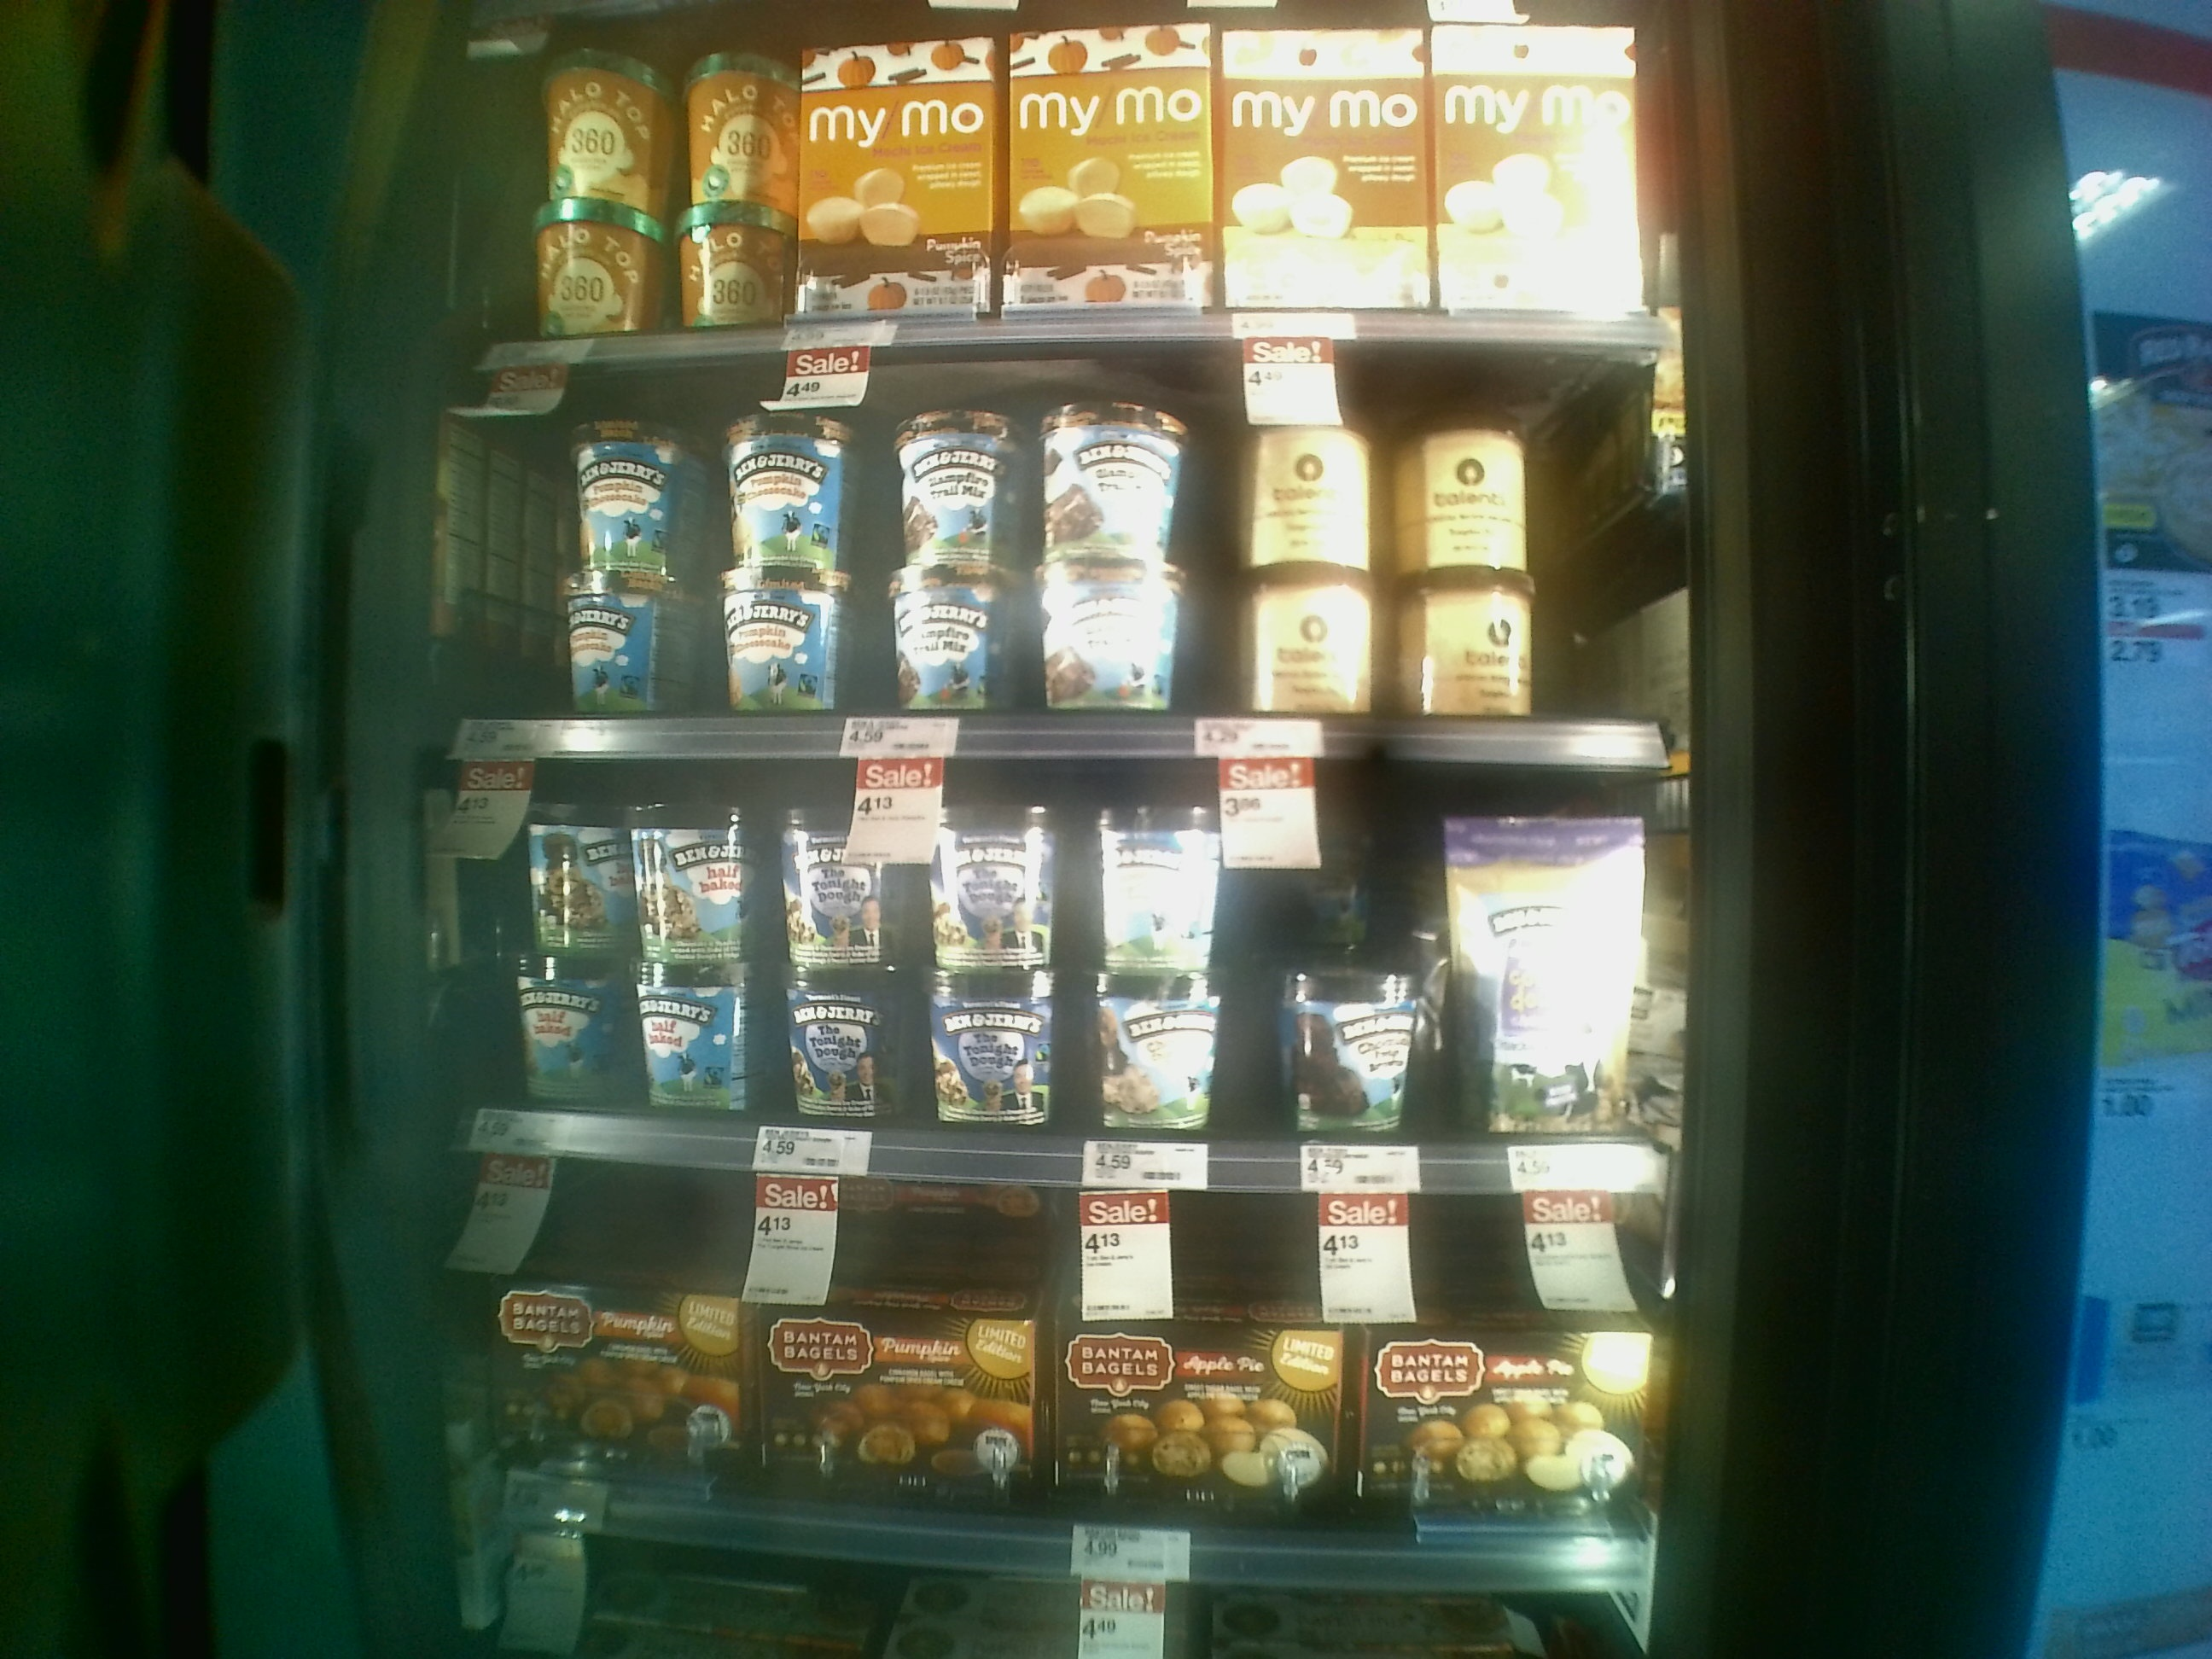shelf: (394, 723, 1677, 1201), (408, 1122, 1663, 1598), (402, 329, 1702, 765)
